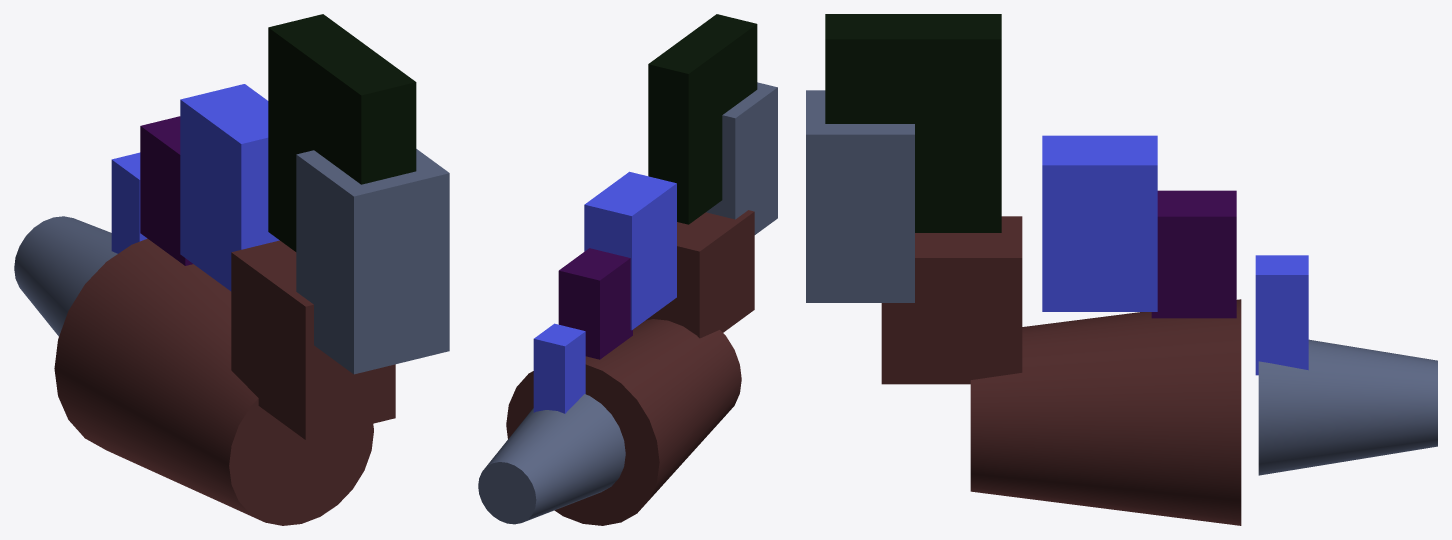
Rendered from Snailk.FBX.
The picture shows the model from 3 angles, left to right: view 1: azimuth 30°, elevation 25°; view 2: azimuth 150°, elevation 25°; view 3: azimuth 270°, elevation 25°; orthographic projection. The views are drawn at different scales.
Visible parts, largest first — view 1: Cone002, Box001, Box006, Box002, Box004, Cone001, Box003, Box005; view 2: Cone002, Box006, Cone001, Box004, Box002, Box001, Box003, Box005; view 3: Cone002, Box006, Box004, Box001, Cone001, Box002, Box003, Box005.
Part boxes in pixels (box(x1,y1,x2,y2)): Cone002: box(54, 238, 373, 525); Box001: box(296, 149, 449, 374); Box006: box(268, 14, 416, 251); Box002: box(231, 240, 395, 439); Box004: box(180, 84, 279, 291); Cone001: box(14, 216, 117, 336); Box003: box(140, 116, 192, 265); Box005: box(111, 152, 147, 253); Cone002: box(506, 319, 741, 525); Box006: box(648, 14, 757, 224); Cone001: box(478, 394, 625, 524); Box004: box(584, 171, 676, 330); Box002: box(646, 210, 754, 338); Box001: box(706, 82, 777, 234); Box003: box(558, 248, 632, 359); Box005: box(533, 323, 585, 413); Cone002: box(970, 299, 1241, 525); Box006: box(825, 14, 1001, 232); Box004: box(1042, 135, 1157, 311); Box001: box(806, 90, 914, 302); Cone001: box(1258, 339, 1437, 475); Box002: box(881, 216, 1022, 384); Box003: box(1151, 190, 1236, 318); Box005: box(1255, 255, 1308, 375).
Bounding box in the file's own units: 46.55 × 129 × 111.
